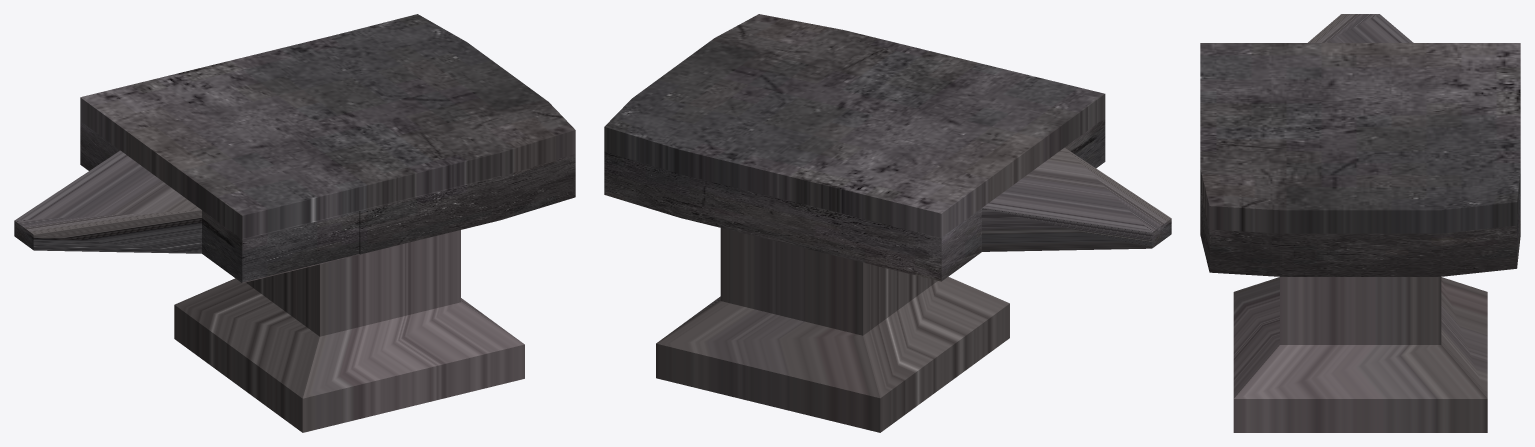
File: Anvil.fbx
The picture shows the model from 3 angles, left to right: view 1: azimuth 30°, elevation 25°; view 2: azimuth 150°, elevation 25°; view 3: azimuth 270°, elevation 25°; orthographic projection. The views are drawn at different scales.
Parts seen in each view (by area): view 1: Anvil; view 2: Anvil; view 3: Anvil.
Part boxes in pixels (left/top/right/bottom): Anvil: left=14, top=14, right=575, bottom=432; Anvil: left=604, top=14, right=1171, bottom=432; Anvil: left=1200, top=14, right=1520, bottom=432.
Size of the model in its own units: 0.8118 by 0.4026 by 0.4712.
